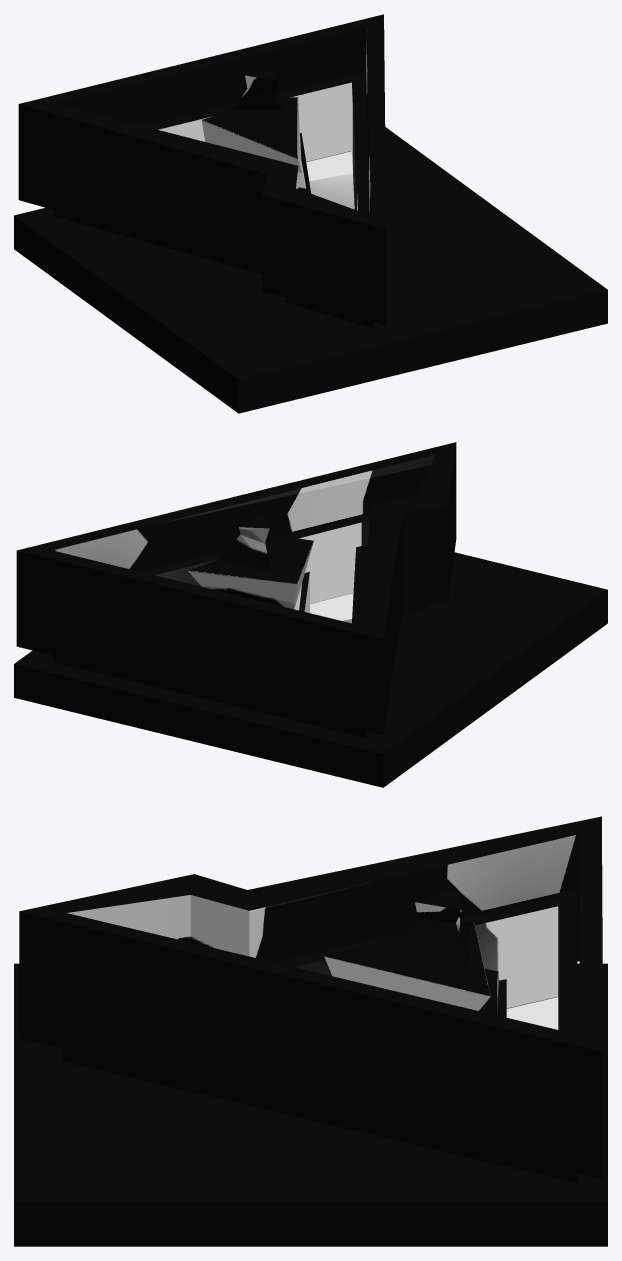
Rendered from level0-1.fbx.
3 views of the same model, one above another, from view 1: azimuth 30°, elevation 25°; view 2: azimuth 150°, elevation 25°; view 3: azimuth 270°, elevation 25° (orthographic). The views are drawn at different scales.
Parts seen in each view (by area): view 1: Ground, Upper_Wall, Lower_Wall, Pillar_top; view 2: Upper_Wall, Ground, Lower_Wall, Pillar_top; view 3: Upper_Wall, Ground, Lower_Wall, Pillar_top.
Boxes of the visible parts, x1,y1,x2,y2 form: Ground: (14,127,607,413); Upper_Wall: (18,14,386,325); Lower_Wall: (54,71,372,328); Pillar_top: (201,69,306,191); Upper_Wall: (16,442,456,735); Ground: (14,552,607,787); Lower_Wall: (52,515,427,737); Pillar_top: (188,513,313,610); Upper_Wall: (19,816,603,1179); Ground: (14,963,607,1246); Lower_Wall: (62,892,578,1183); Pillar_top: (324,889,499,1015).
Size of the model in its own units: 24.92 by 11.25 by 26.26.
5 materials, 5 textured.
